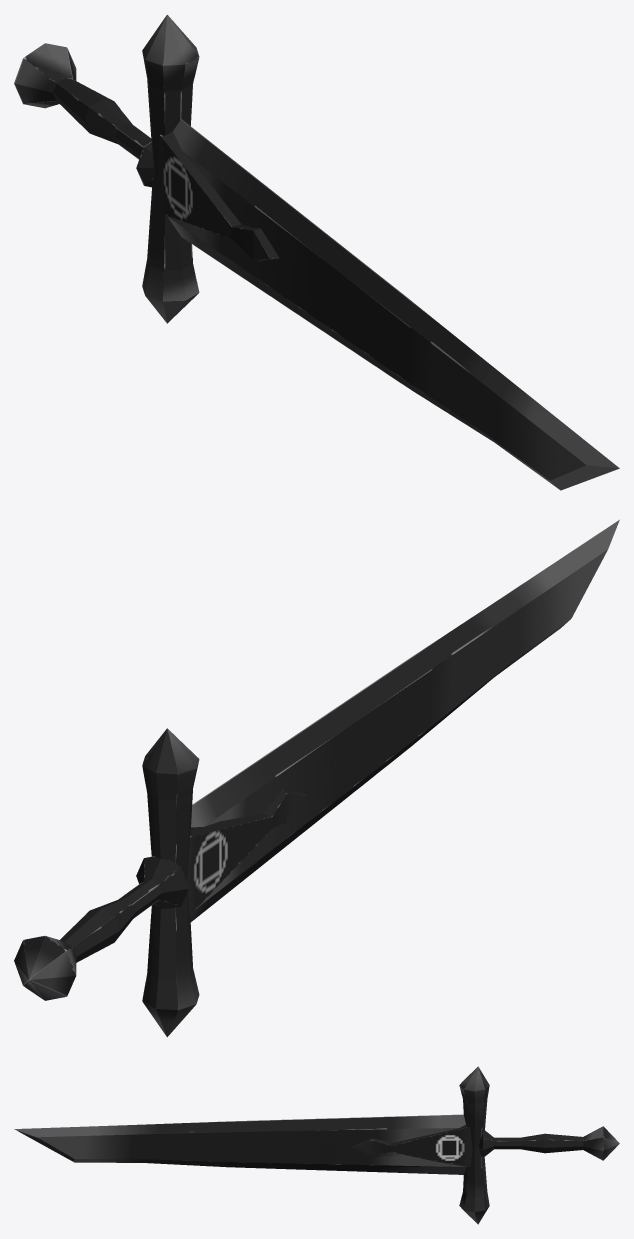
Rendered from amon.obj.
The picture shows the model from 3 angles, top to bottom: view 1: azimuth 30°, elevation 25°; view 2: azimuth 150°, elevation 25°; view 3: azimuth 270°, elevation 25°; orthographic projection. The views are drawn at different scales.
Visible parts, largest first — view 1: Circle; view 2: Circle; view 3: Circle.
Boxes of the visible parts, bbox=[...] form: Circle: bbox=[14, 14, 619, 490]; Circle: bbox=[14, 519, 619, 1037]; Circle: bbox=[14, 1066, 619, 1224].
Bounding box in the file's own units: 0.0674 × 0.32 × 1.11.
